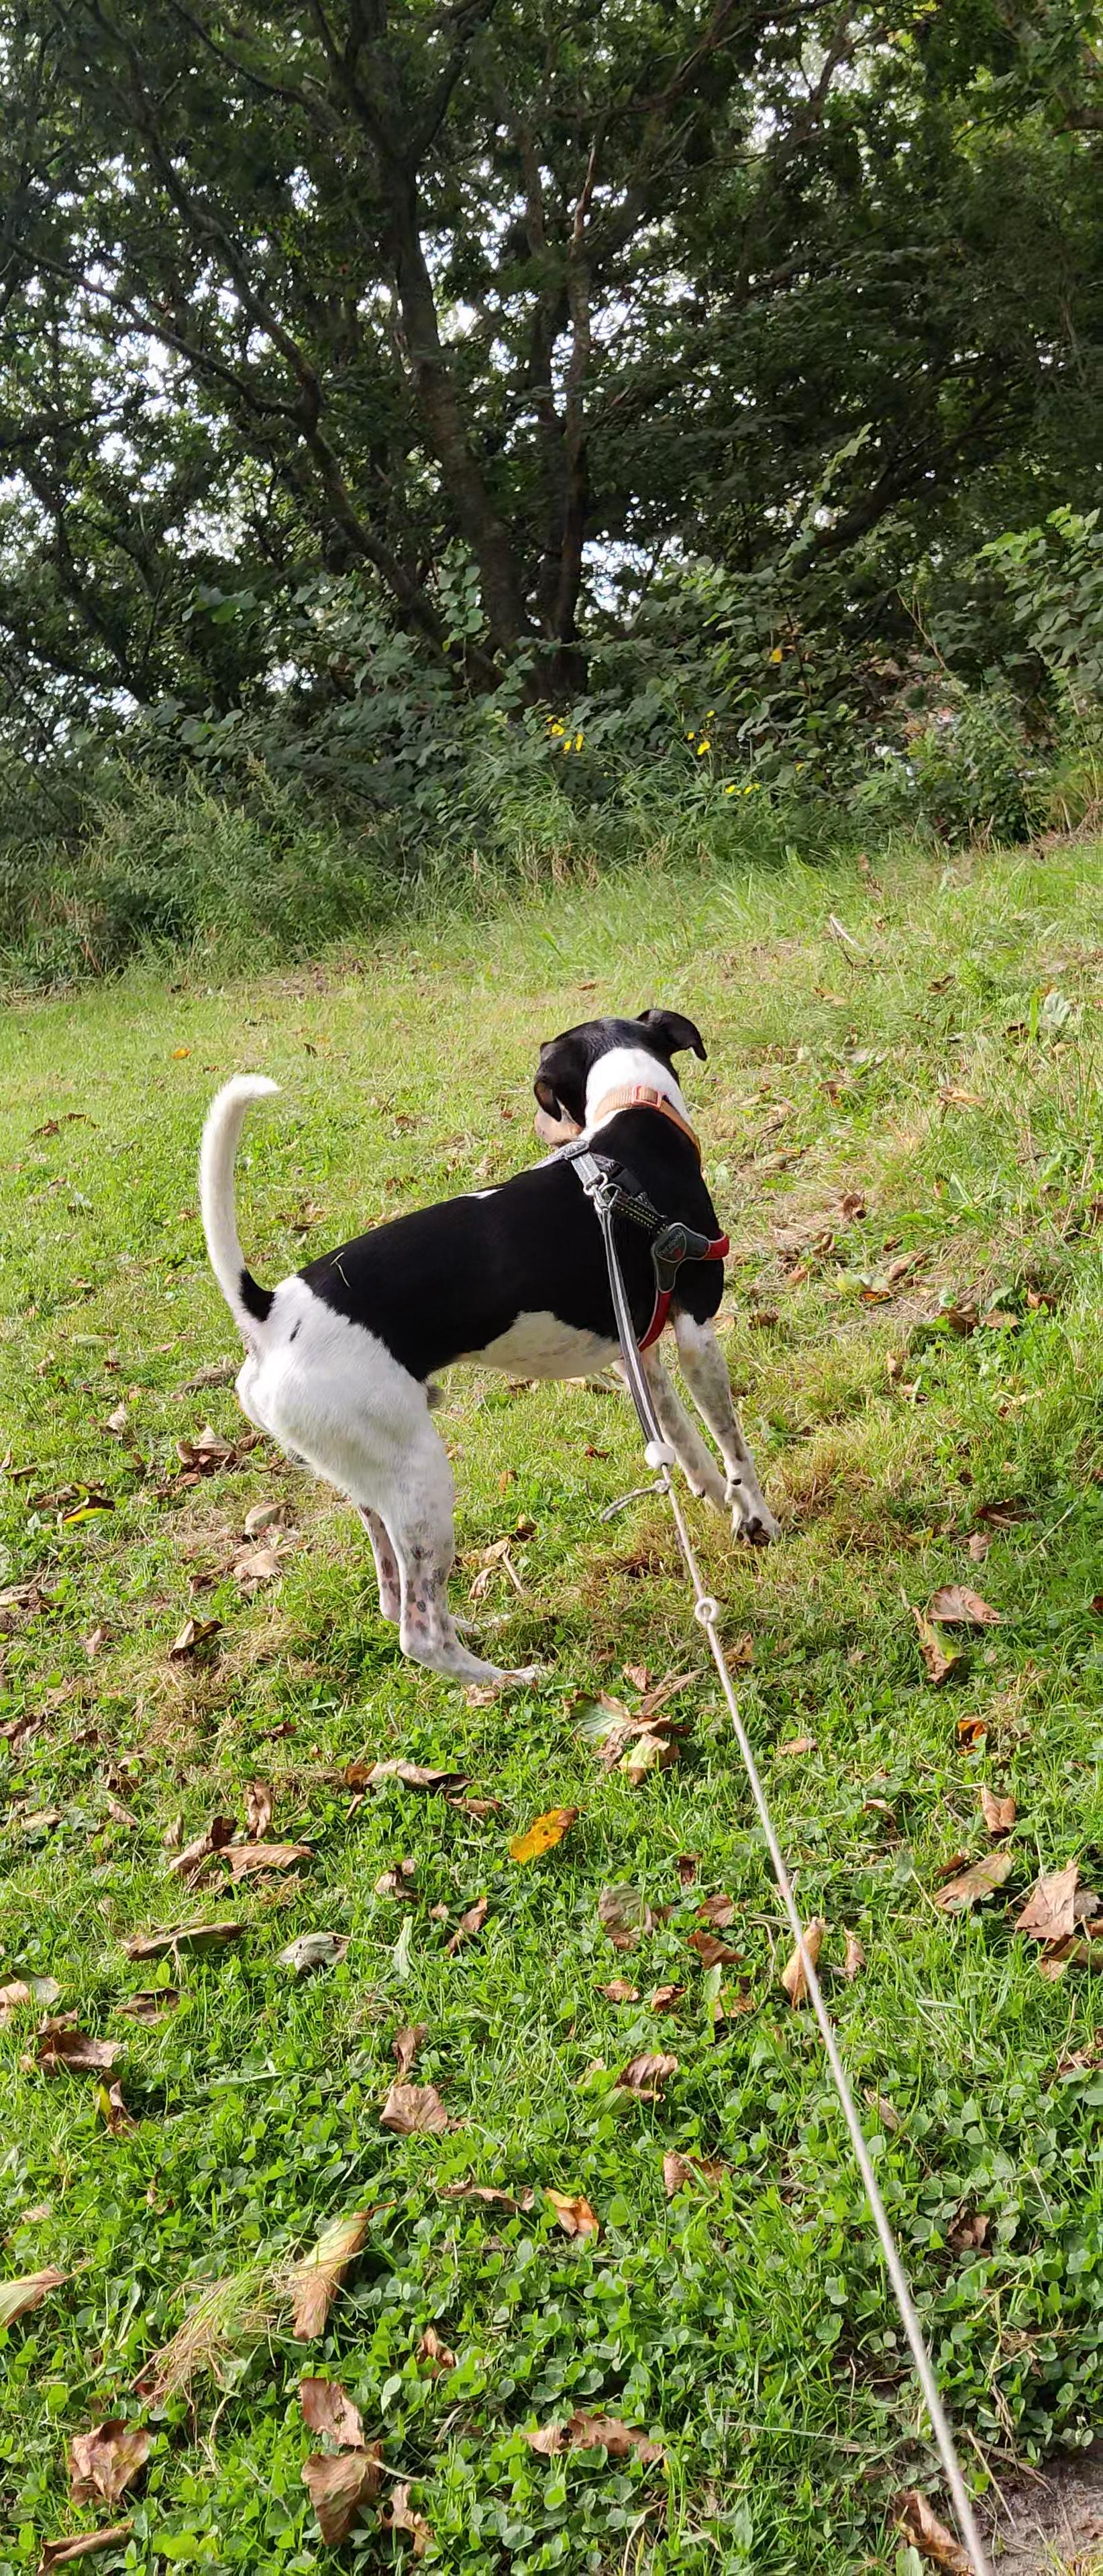Dog: (182, 999, 791, 1684)
